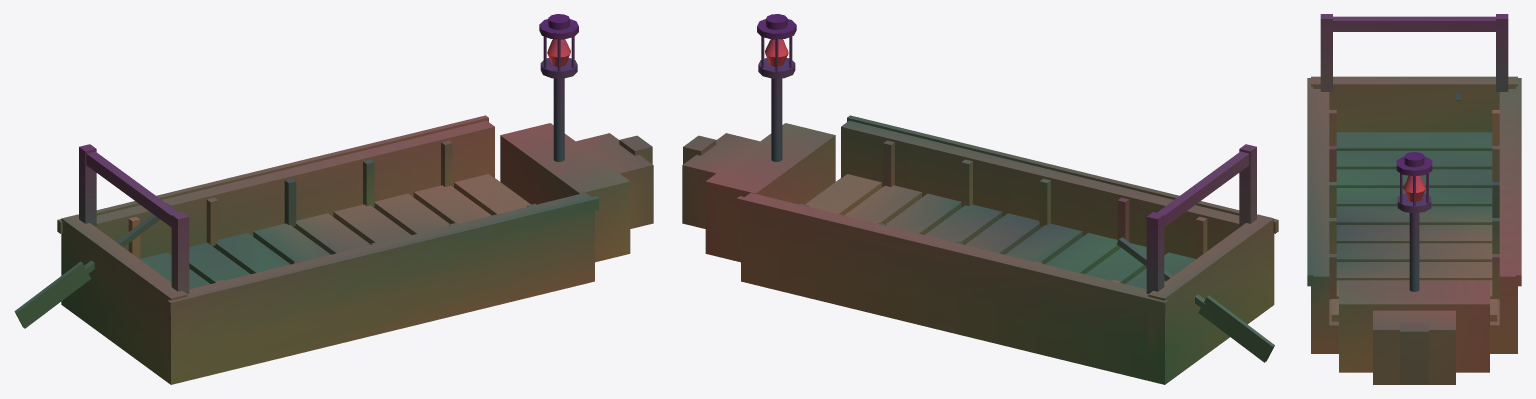
File: ferry_boat.glb
The picture shows the model from 3 angles, left to right: view 1: azimuth 30°, elevation 25°; view 2: azimuth 150°, elevation 25°; view 3: azimuth 270°, elevation 25°; orthographic projection. The views are drawn at different scales.
Parts seen in each view (by area): view 1: ferry_hull, ferry_deck, ferry_iron, ferry_sweep; view 2: ferry_hull, ferry_deck, ferry_iron, ferry_sweep; view 3: ferry_hull, ferry_deck, ferry_iron, ferry_flame.
Boxes of the visible parts, <box> form: ferry_hull: <box>57,115,653,384</box>; ferry_deck: <box>140,174,530,289</box>; ferry_iron: <box>79,14,578,293</box>; ferry_sweep: <box>14,203,170,328</box>; ferry_hull: <box>682,115,1278,384</box>; ferry_deck: <box>798,174,1195,289</box>; ferry_iron: <box>757,14,1256,293</box>; ferry_sweep: <box>1117,237,1274,362</box>; ferry_hull: <box>1307,76,1521,384</box>; ferry_deck: <box>1331,132,1497,321</box>; ferry_iron: <box>1320,14,1508,291</box>; ferry_flame: <box>1403,175,1425,201</box>.
Bounding box in the file's own units: 5.43 × 1.87 × 1.76.
